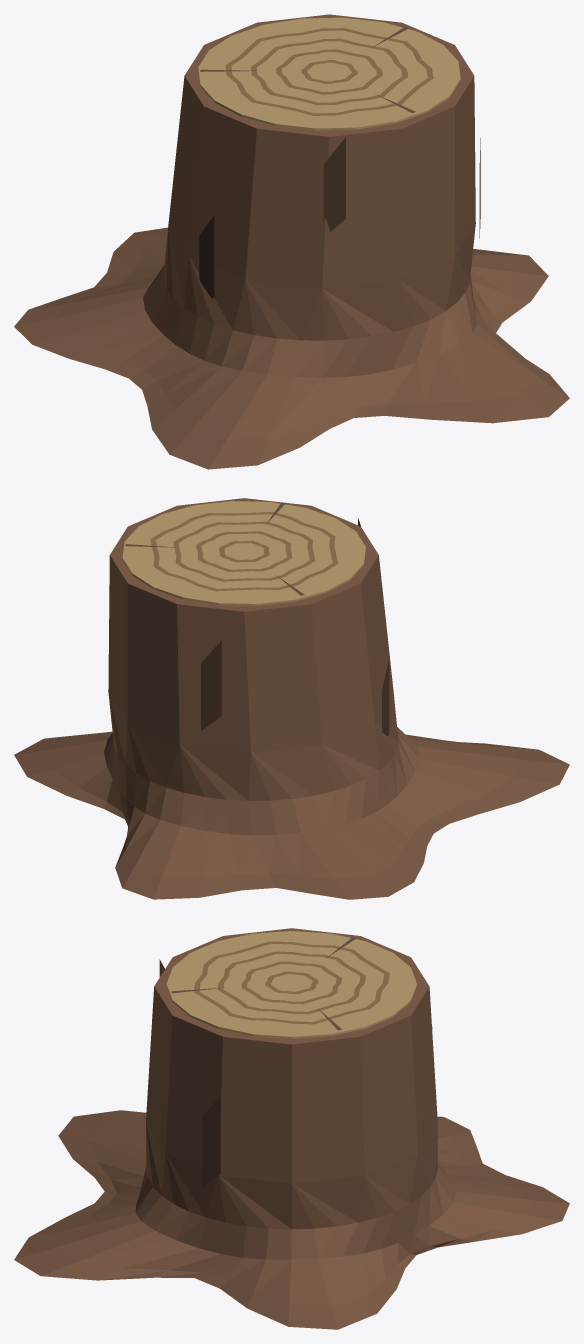
The model's file is pine_stump.glb.
3 views of the same model, one above another, from view 1: azimuth 30°, elevation 25°; view 2: azimuth 150°, elevation 25°; view 3: azimuth 270°, elevation 25° (orthographic). The views are drawn at different scales.
Parts seen in each view (by area): view 1: stump, growth_rings; view 2: stump, growth_rings; view 3: stump, growth_rings.
Boxes of the visible parts, left/top/right/bottom form: stump: left=14, top=14, right=569, bottom=469; growth_rings: left=198, top=17, right=460, bottom=130; stump: left=14, top=498, right=569, bottom=899; growth_rings: left=122, top=501, right=365, bottom=605; stump: left=14, top=928, right=569, bottom=1329; growth_rings: left=166, top=931, right=416, bottom=1038.
Bounding box in the file's own units: 0.9434 × 0.488 × 1.01.
